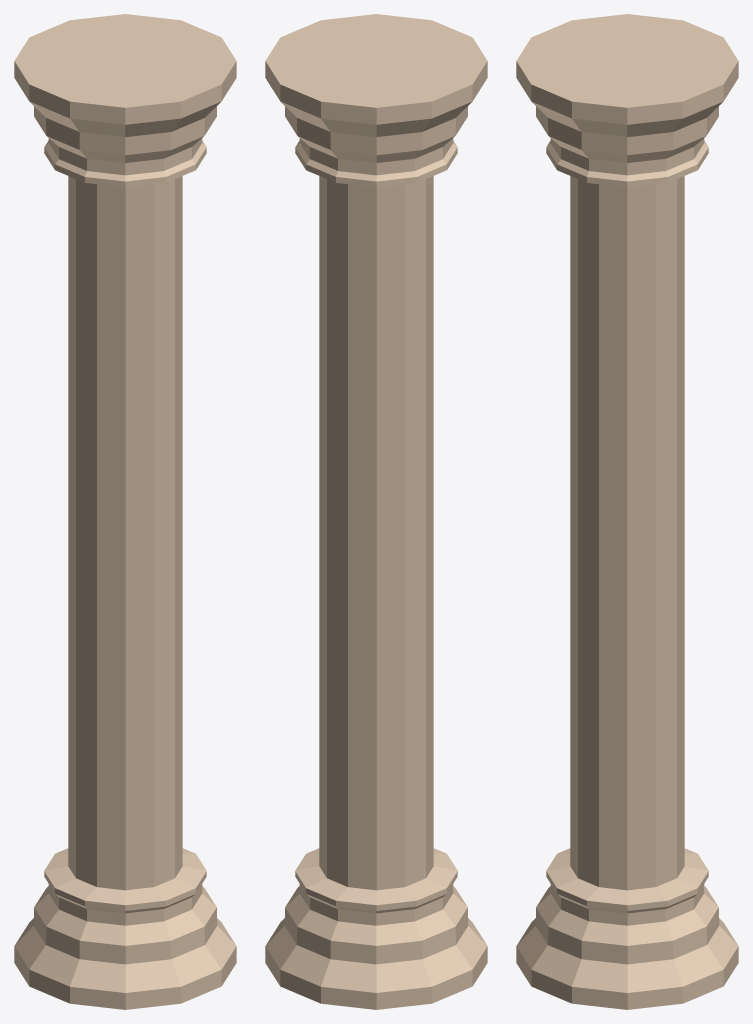
The model's file is Column.FBX.
3 views of the same model, side by side, from view 1: azimuth 30°, elevation 25°; view 2: azimuth 150°, elevation 25°; view 3: azimuth 270°, elevation 25° (orthographic).
Visible parts, largest first — view 1: Cylinder003; view 2: Cylinder003; view 3: Cylinder003.
Part boxes in pixels (x1=…): Cylinder003: x1=14, y1=14, x2=236, y2=1009; Cylinder003: x1=265, y1=14, x2=487, y2=1009; Cylinder003: x1=516, y1=14, x2=738, y2=1009.
Bounding box in the file's own units: 72.66 × 325 × 72.66.
